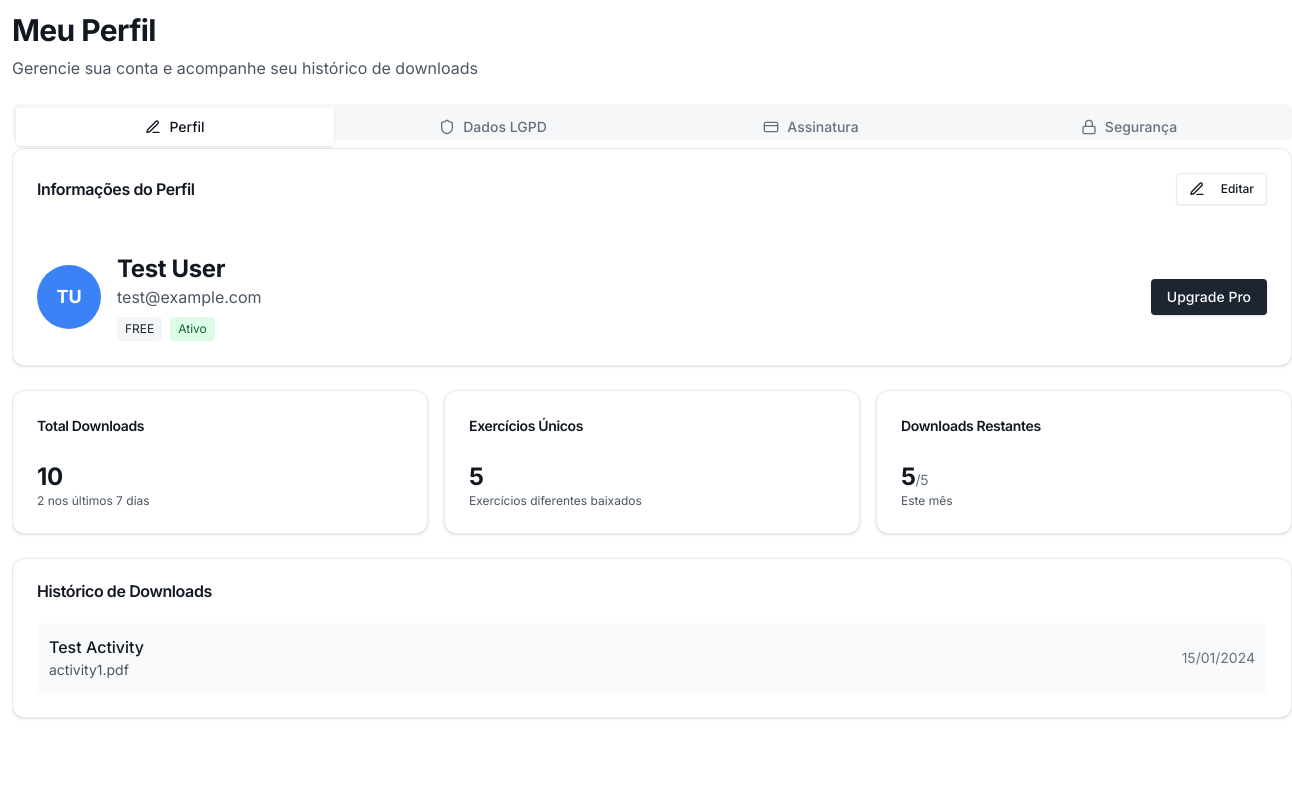
Test: UserProfile Component › enters edit mode when edit button is clicked
Check: the heading "Test User" is shown, box [117,254,225,283]
Click the button "Editar": (1221, 189) [1176,173,1267,205]
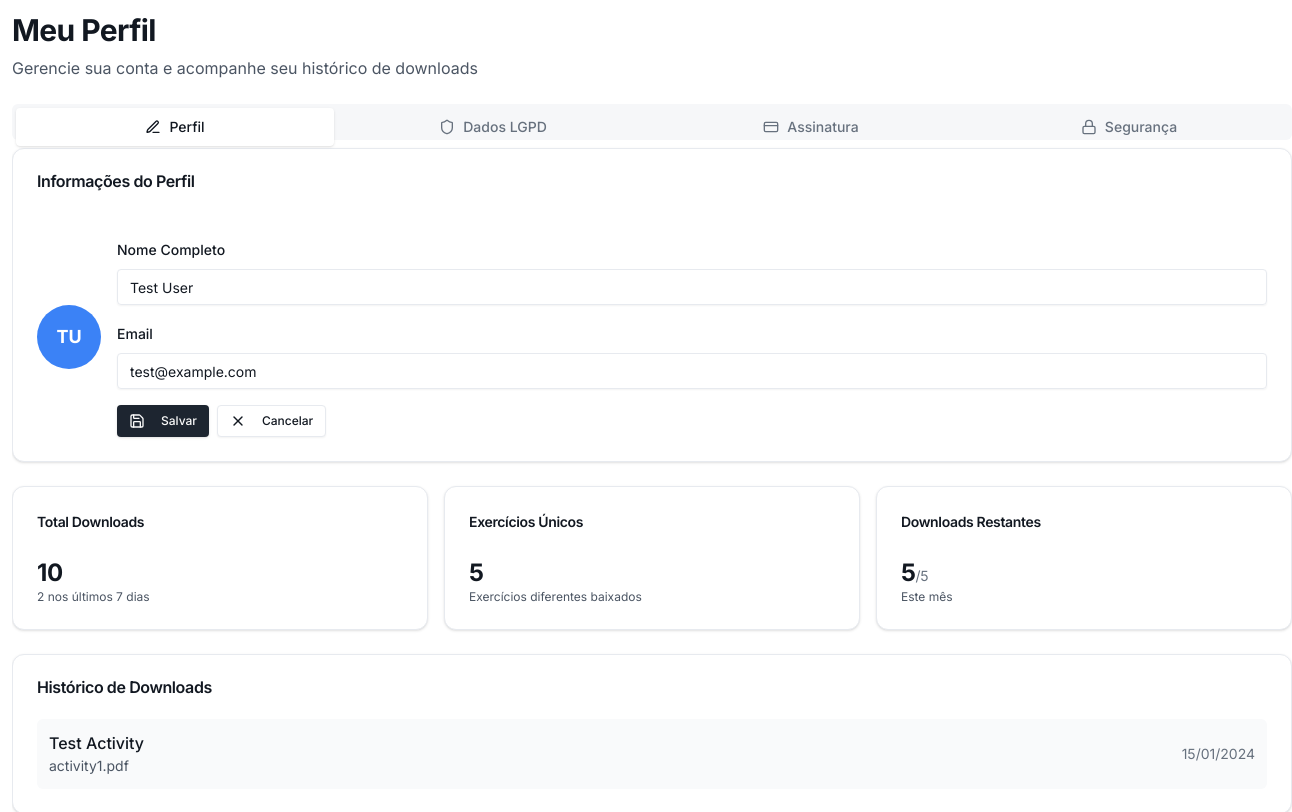
Check: the field showing "Test User" is shown, box [117,269,1267,305]
Check: the field showing "test@example.com" is shown, box [117,353,1267,389]
Check: the button "Salvar" is shown, box [117,405,209,437]
